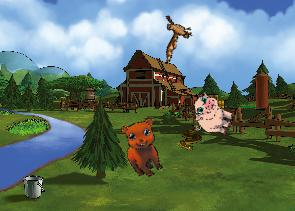bear: (113, 112, 176, 182)
eagle: (151, 9, 199, 64)
pig: (187, 90, 239, 140)
